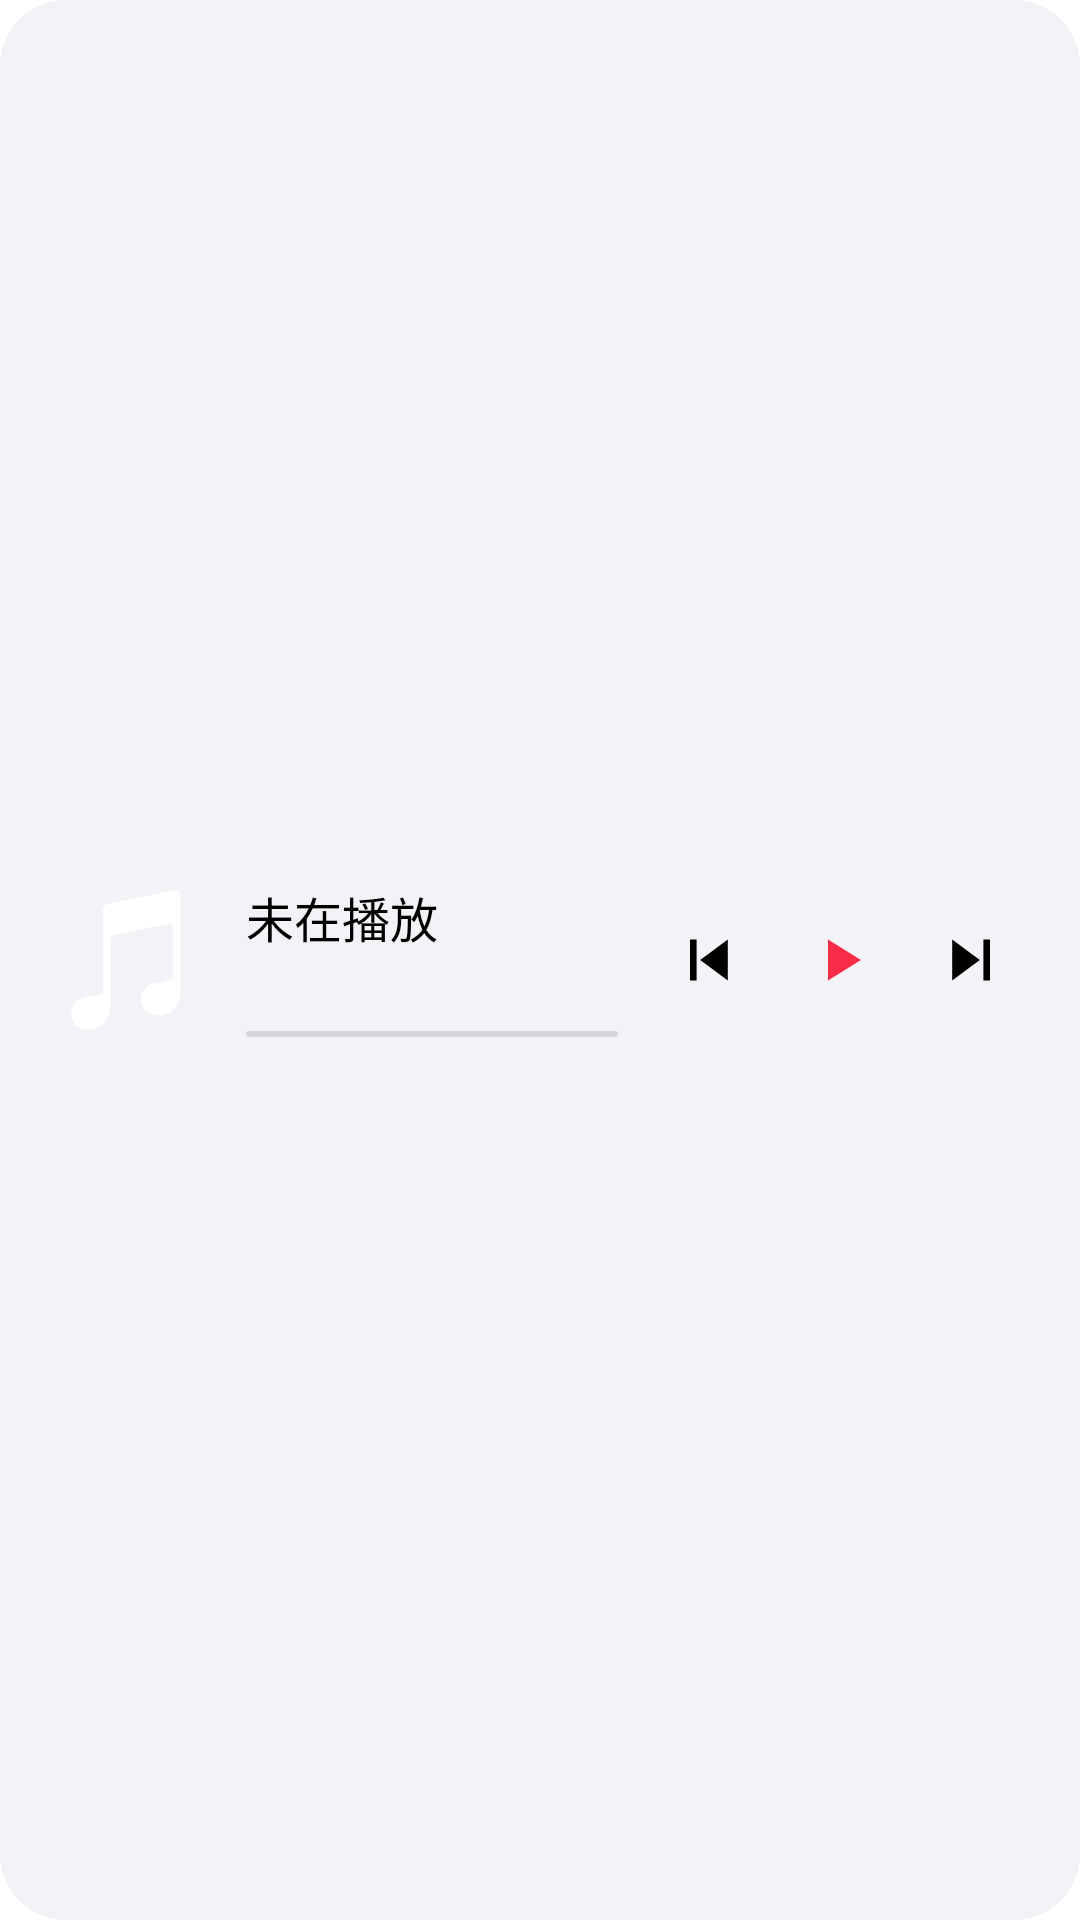

Named icons in this screenshot (1080*1920) and their centers, (x=x, y=y):
上一首: (x=709, y=960)
下一首: (x=971, y=960)
播放: (x=844, y=960)
